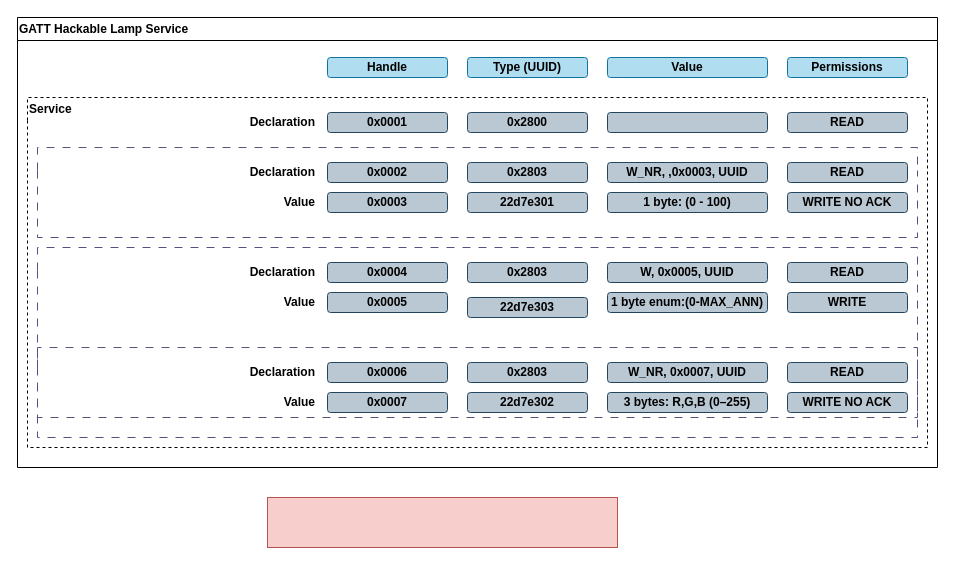
This 955x565 diagram has some shape labels left out. The box of each missing label's shape, as (x1, y1, x2, y2) in pixels:
6E400001: (606, 112, 768, 132)
Characteristic - "Annimation Number": (36, 246, 918, 418)
Characteristic - "RGB Hex Value": (36, 346, 918, 438)
Characteristic - "Servo Angle": (36, 146, 918, 238)
TODO: I have RX and TX characteristics for legacy BLE UART or debugging: (266, 496, 618, 548)
